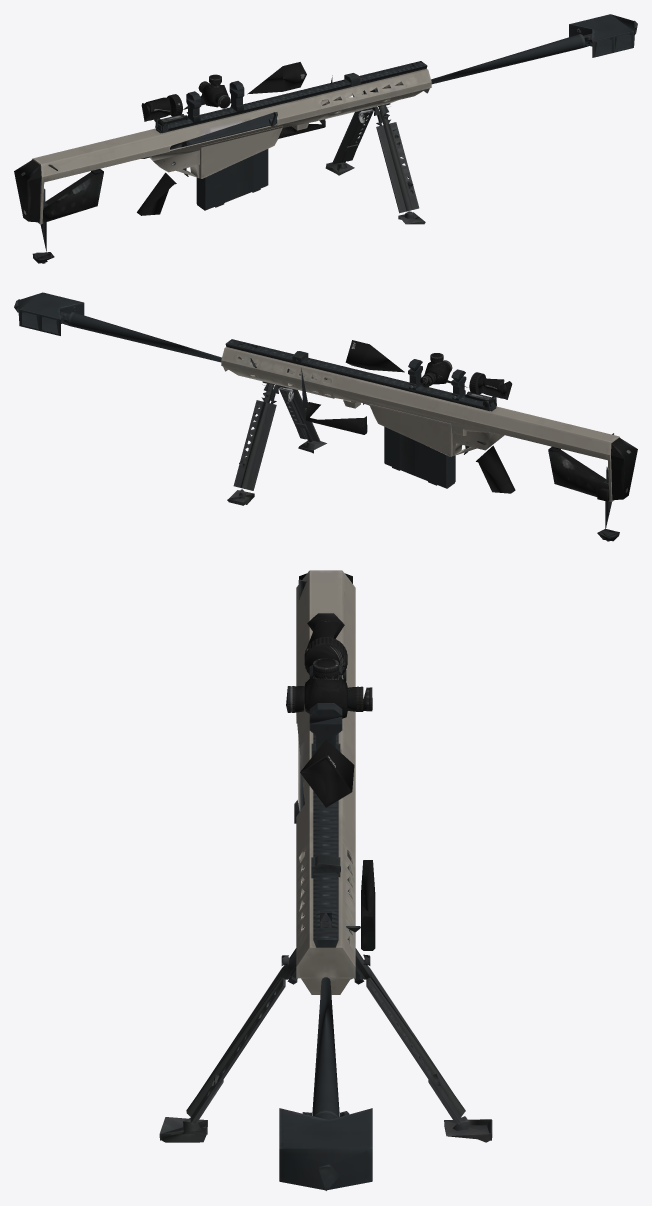
File: barrett_lod1.glb
3 views of the same model, one above another, from view 1: azimuth 30°, elevation 25°; view 2: azimuth 150°, elevation 25°; view 3: azimuth 270°, elevation 25° (orthographic). The views are drawn at different scales.
Visible parts, largest first — view 1: base, base_2, base_3, scope, mag, bolt; view 2: base, base_2, base_3, scope, mag; view 3: base, base_2, base_3, scope.
Boxes of the visible parts, x1,y1,x2,y2 form: base: (32,68,431,224); base_2: (14,61,427,263); base_3: (363,14,637,94); scope: (141,62,306,122); mag: (196,149,268,210); bolt: (141,112,277,158); base: (221,347,619,502); base_2: (225,339,637,541); base_3: (14,292,363,404); scope: (345,340,512,402); mag: (384,427,455,488); base: (296,570,355,994); base_2: (159,573,492,1142); base_3: (279,856,372,1190); scope: (286,613,372,807).
Bounding box in the file's own units: 1.47 × 0.3603 × 0.3449.
5 materials, 5 textured.
